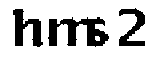2: (116, 4, 151, 50)
6: (88, 14, 113, 51)
h: (9, 5, 43, 52)
m: (46, 14, 92, 50)
